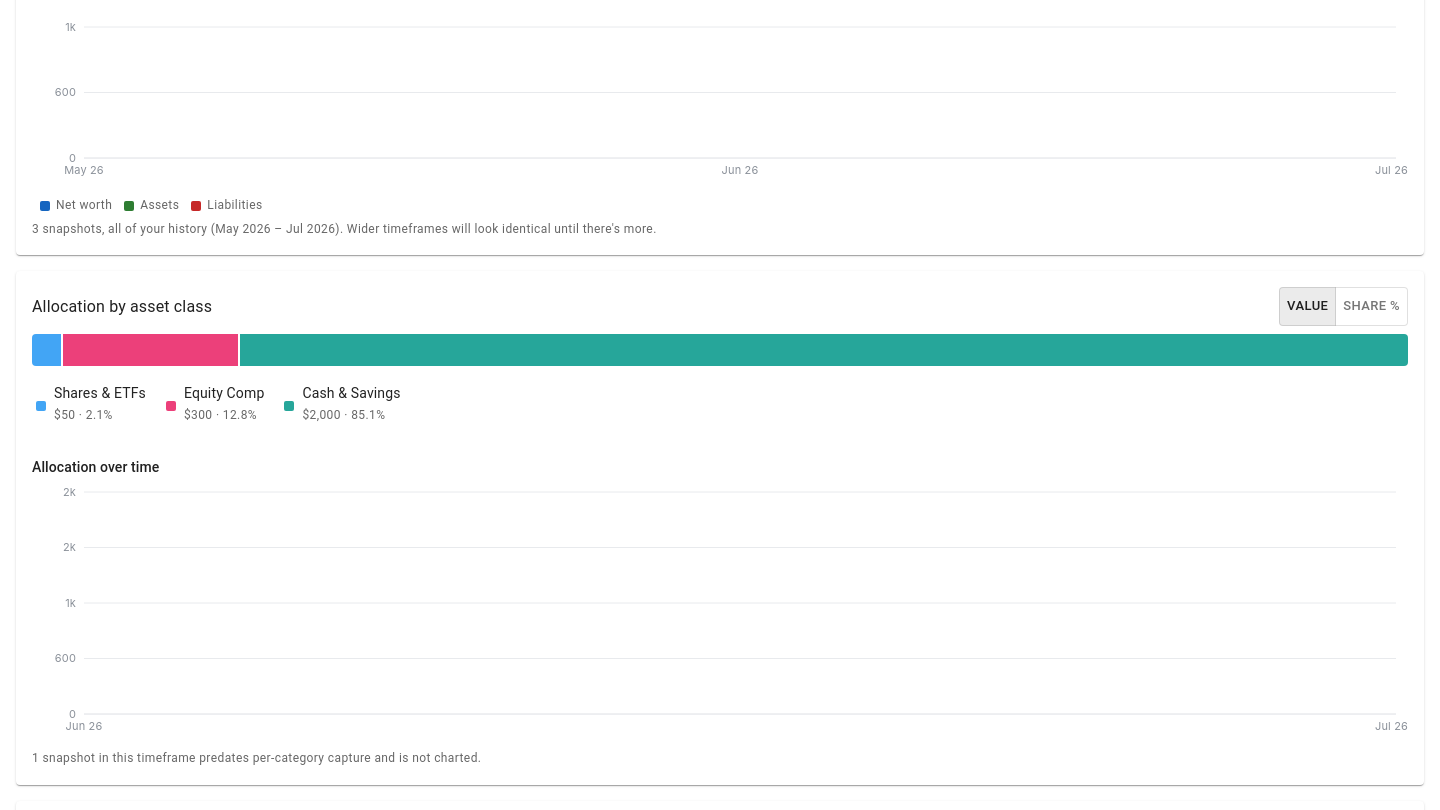
Test: allocation renders as a composition bar with values and shares
(page scrolled)
Click the button "Cash & Savings $2,000 · 85.1%". click: (345, 406)
box: [280,378,409,433]
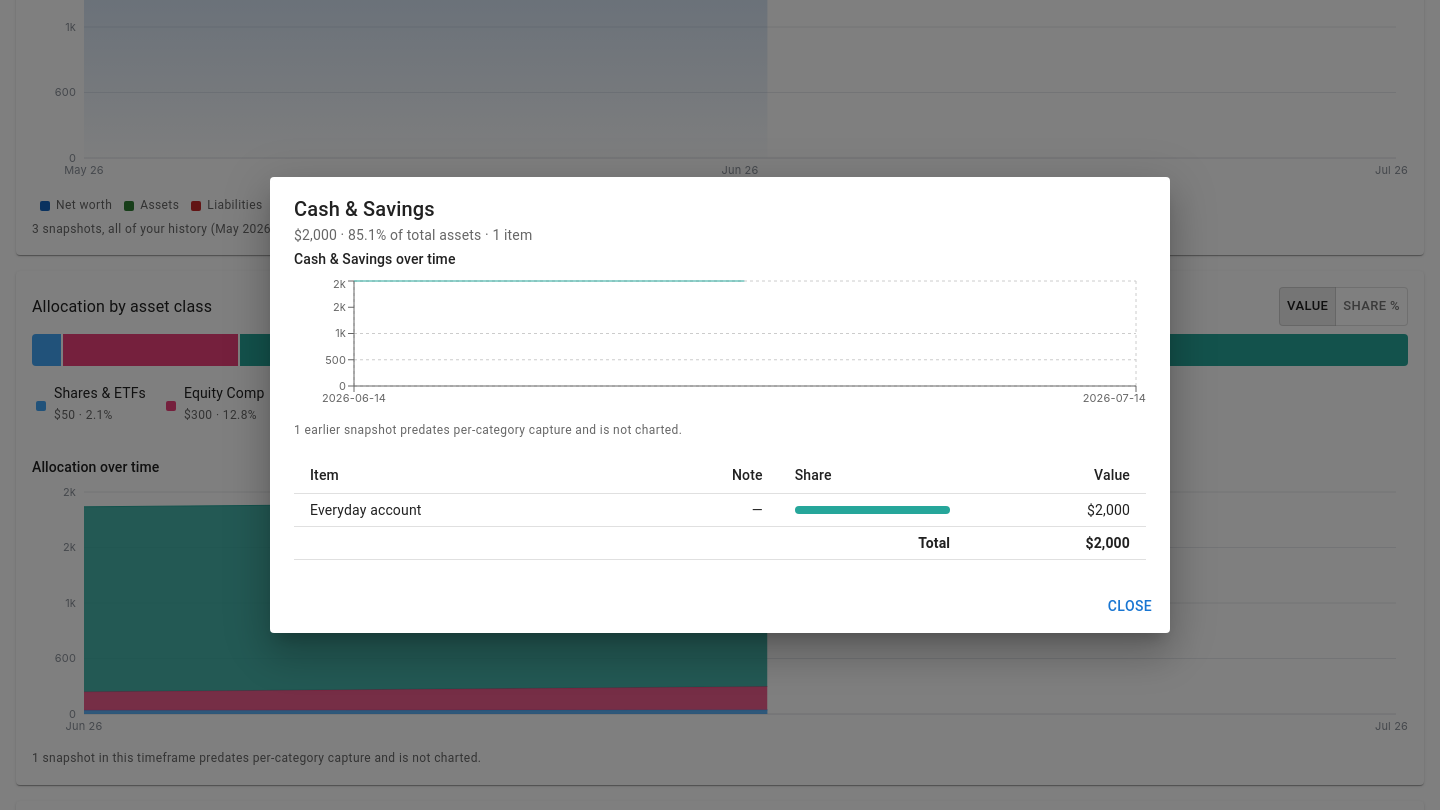
Check: the dialog is shown, box [270,177,1170,633]
